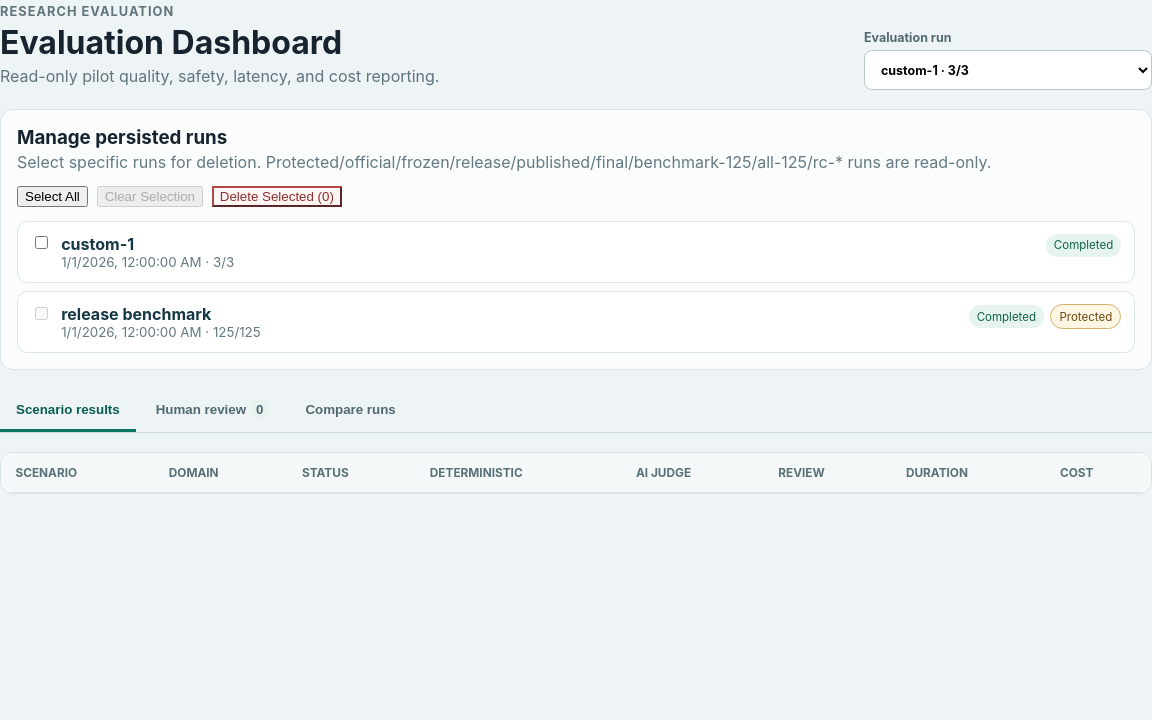
Test case: EvaluationDashboardPage › deletes only selected unprotected runs
Expected: the heading "Manage persisted runs" is shown, [17,126,227,149]
Expected: the checkbox labelled "release benchmark 1/1/2026, 12:00:00 AM · 125/125" is disabled, [35,307,48,320]
Click the checkbox labelled "custom-1 1/1/2026, 12:00:00 AM · 3/3".
click(41, 243)  # box [35,236,48,249]
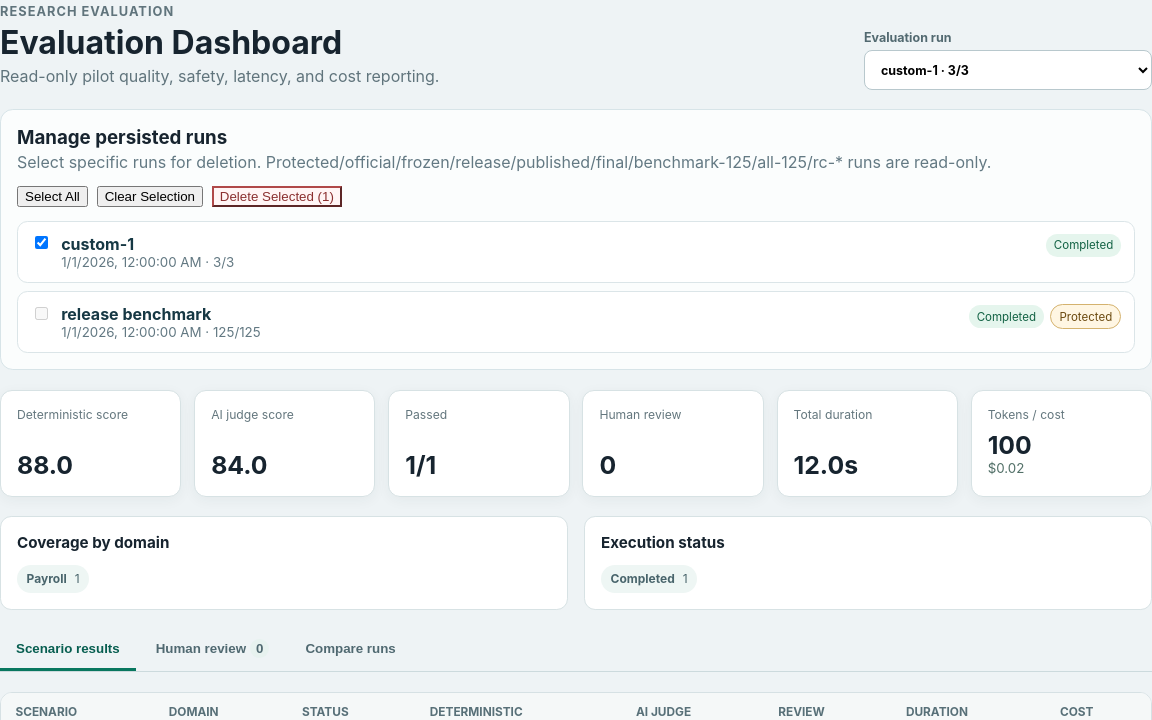
Click the button "Delete Selected (1)".
click(277, 196)  # box [212,186,342,207]
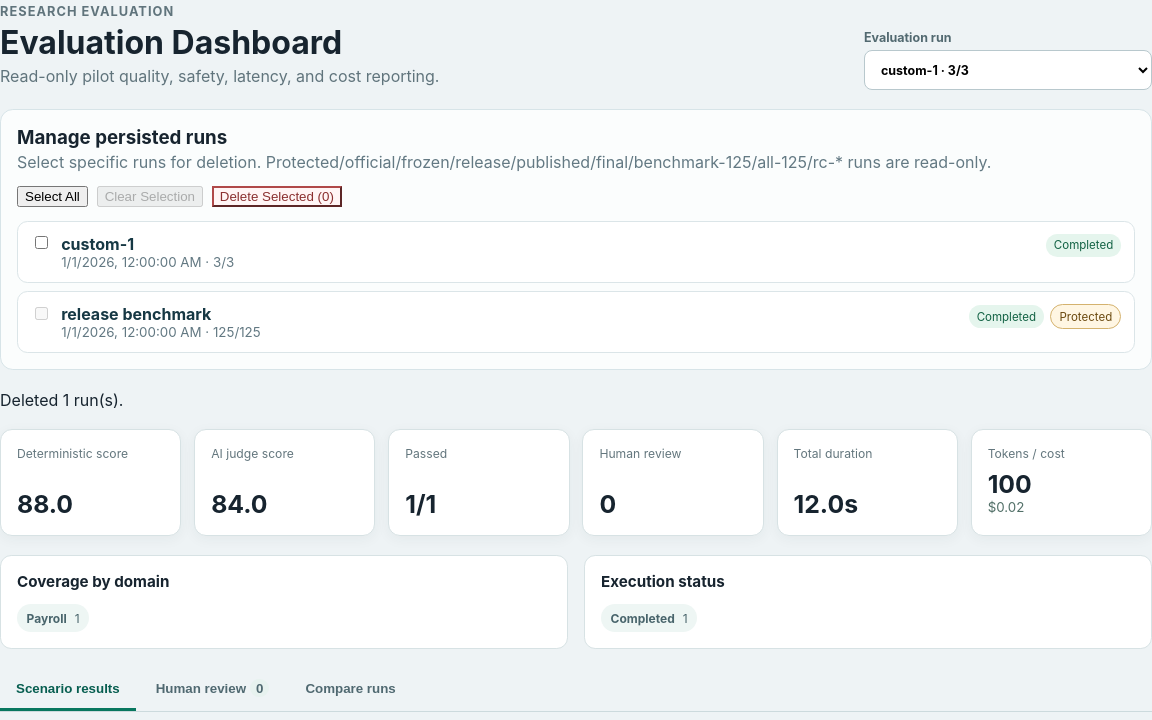
Expected: the text "Protected" is shown, [1050,304,1121,329]
Expected: the text "Deleted 1 run(s)." is shown, [0,390,124,410]
